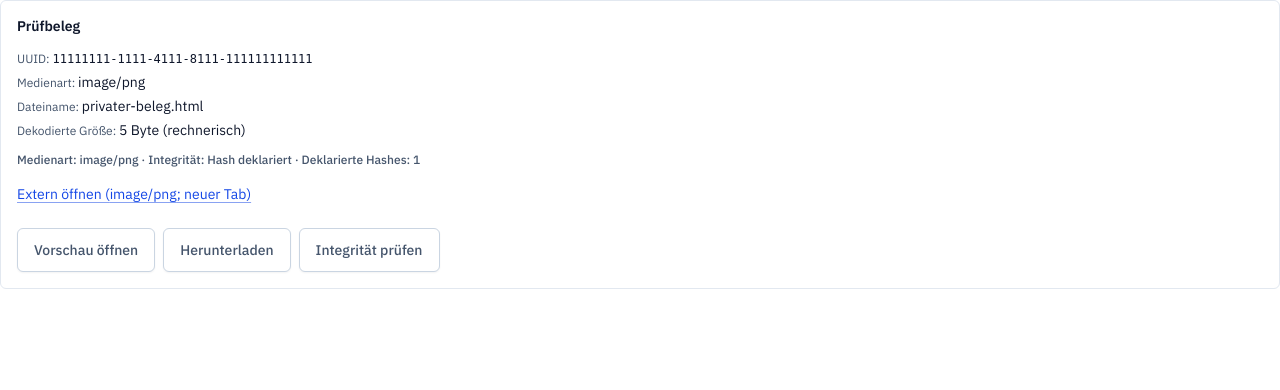
erzeugt image/png erst auf Klick und widerruft beim Schließen
Click the button "Vorschau öffnen" at x=86, y=250, box [17,228,155,272]
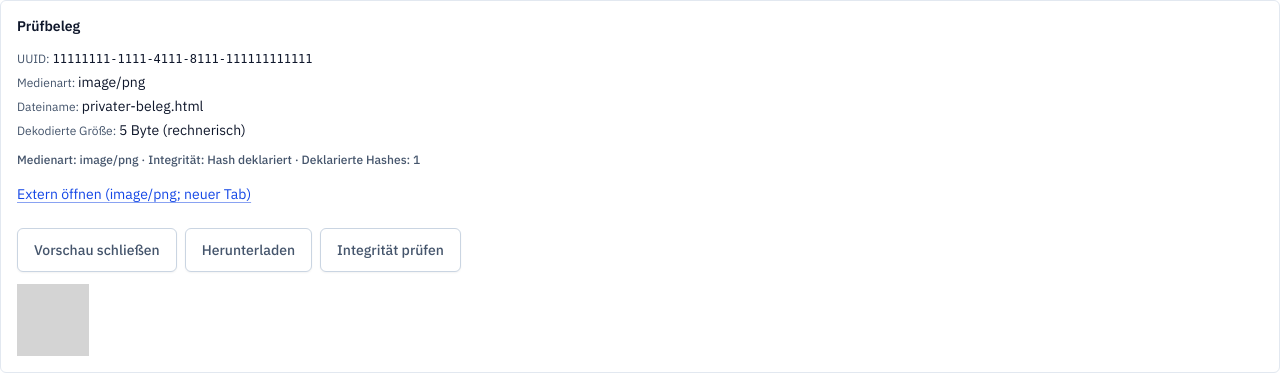
Click the button "Vorschau schließen" at x=97, y=250, box [17,228,177,272]
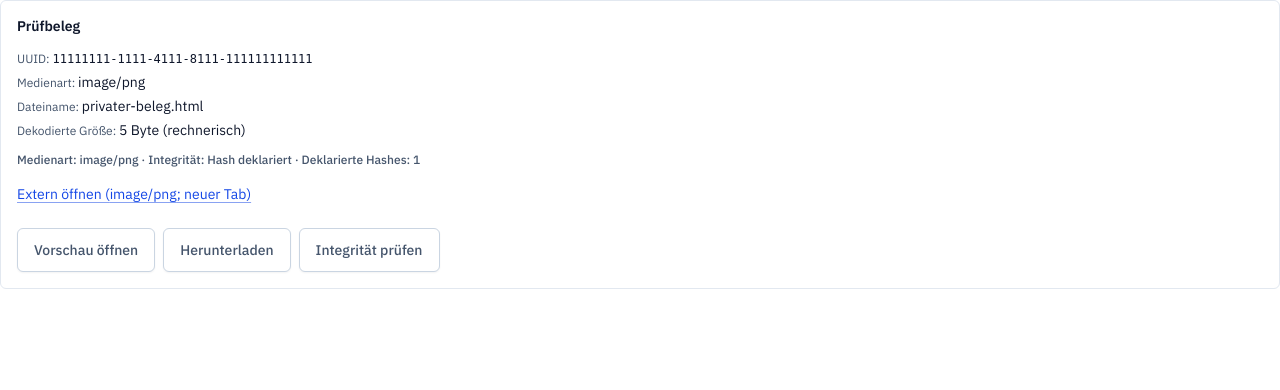
Now the picture is gone
